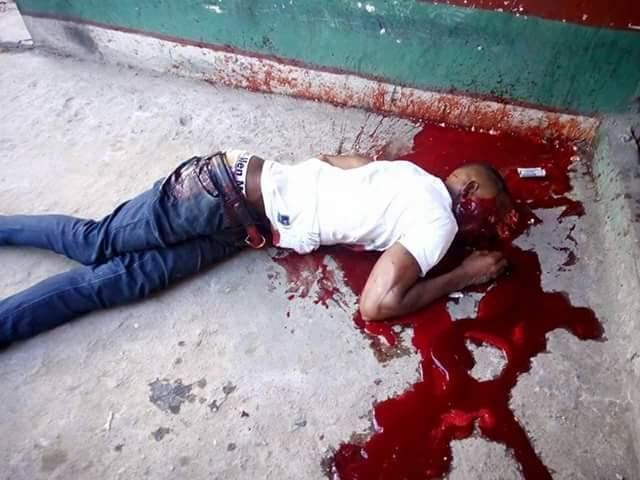Fire: (221, 54, 605, 480), (351, 112, 424, 160), (244, 206, 273, 249)
